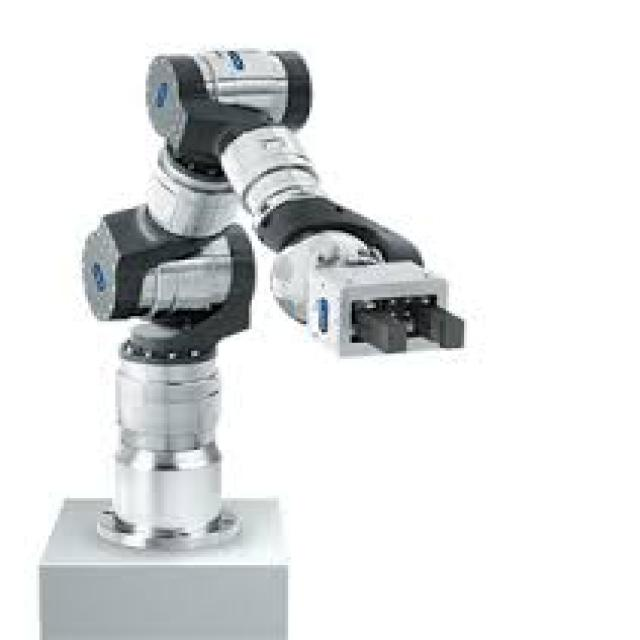Robotic-arm: (48, 34, 466, 558)
